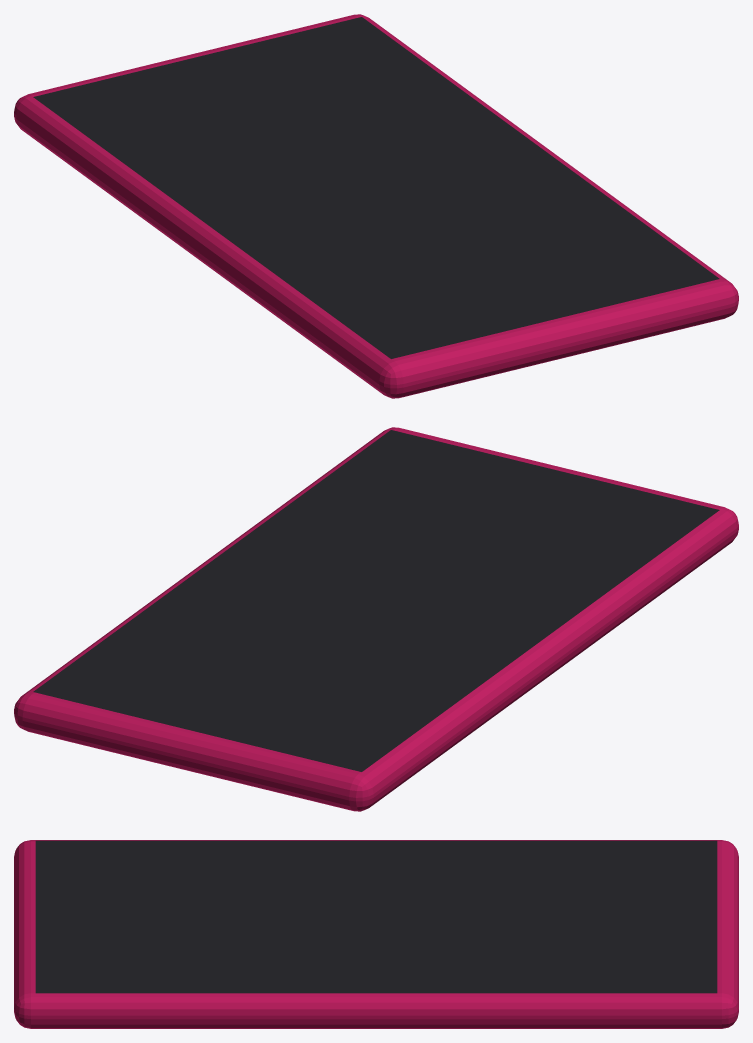
File: oneplus-nord-model-240-flagship-2022.glb
The picture shows the model from 3 angles, top to bottom: view 1: azimuth 30°, elevation 25°; view 2: azimuth 150°, elevation 25°; view 3: azimuth 270°, elevation 25°; orthographic projection. The views are drawn at different scales.
Visible parts, largest first — view 1: Phone_Screen, Phone_Body; view 2: Phone_Screen, Phone_Body; view 3: Phone_Screen, Phone_Body.
Part boxes in pixels (left/top/right/bottom): Phone_Screen: left=33, top=17, right=719, bottom=358; Phone_Body: left=14, top=14, right=738, bottom=398; Phone_Screen: left=33, top=430, right=719, bottom=771; Phone_Body: left=14, top=427, right=738, bottom=811; Phone_Screen: left=35, top=840, right=717, bottom=993; Phone_Body: left=14, top=840, right=738, bottom=1028.
Size of the model in its own units: 0.076 by 0.0074 by 0.1403.
